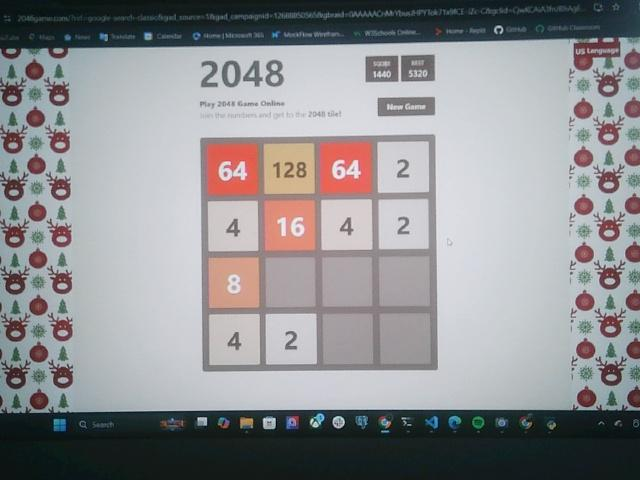board: (201, 137, 438, 371)
tile: (320, 142, 373, 194), (378, 142, 430, 194), (209, 257, 261, 309), (265, 199, 316, 251), (265, 315, 318, 365), (208, 314, 259, 365), (379, 200, 429, 251), (207, 144, 257, 194), (264, 144, 314, 194), (209, 202, 259, 251), (323, 202, 373, 251)
